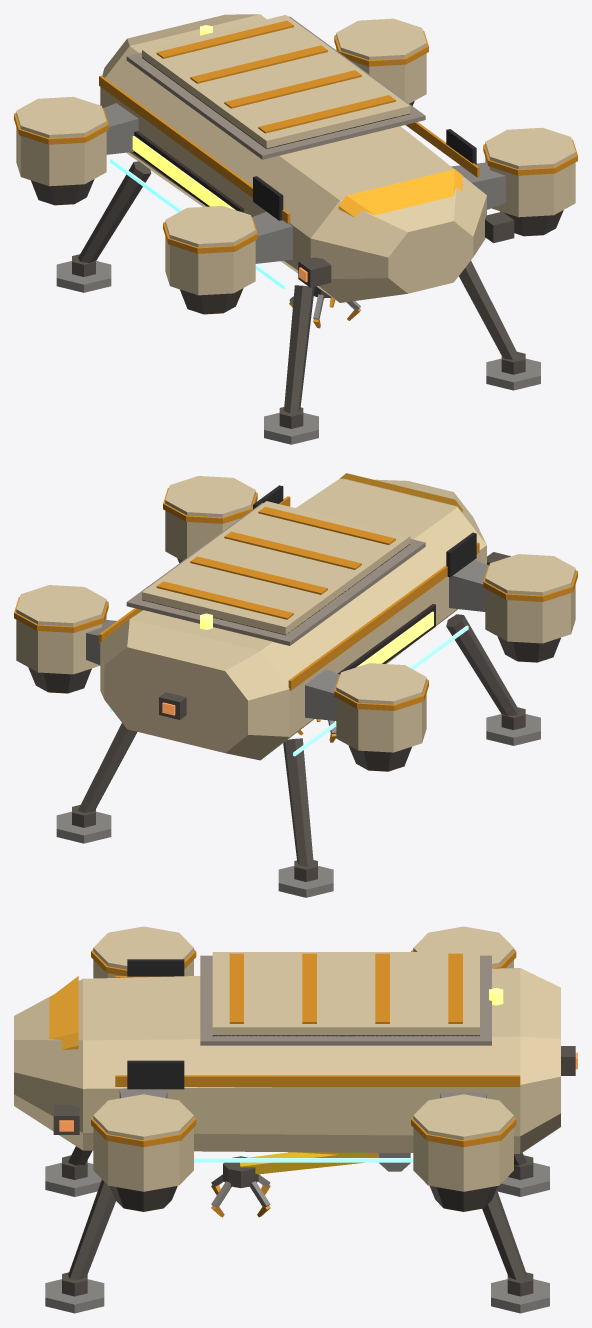
File: letoun-kondor.glb
3 views of the same model, one above another, from view 1: azimuth 30°, elevation 25°; view 2: azimuth 150°, elevation 25°; view 3: azimuth 270°, elevation 25° (orthographic). The views are drawn at different scales.
Parts seen in each view (by area): view 1: kondor, poklop, naklad_ukazatel, ruka_klesti; view 2: kondor, poklop, naklad_ukazatel; view 3: kondor, poklop, ruka_predlokti, ruka_klesti.
Boxes of the visible parts, left/top/right/bottom form: kondor: left=14, top=14, right=577, bottom=444; poklop: left=142, top=15, right=410, bottom=148; naklad_ukazatel: left=132, top=136, right=235, bottom=209; ruka_klesti: left=289, top=286, right=360, bottom=328; kondor: left=14, top=473, right=577, bottom=897; poklop: left=142, top=501, right=410, bottom=634; naklad_ukazatel: left=356, top=611, right=433, bottom=667; kondor: left=14, top=926, right=577, bottom=1313; poklop: left=212, top=952, right=479, bottom=1036; ruka_predlokti: left=240, top=1152, right=410, bottom=1174; ruka_klesti: left=211, top=1156, right=270, bottom=1217.
Size of the model in its own units: 6.2 by 3.45 by 6.96.
